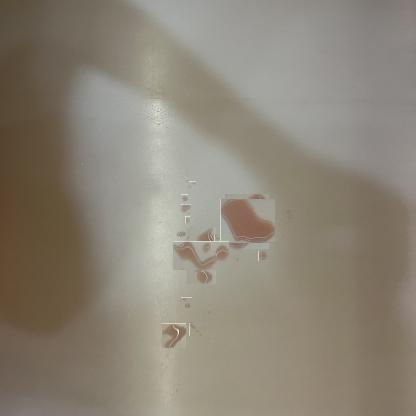liquid: (223, 197, 272, 246), (180, 235, 223, 277), (162, 323, 186, 348), (189, 322, 202, 336), (180, 297, 192, 308), (188, 181, 196, 194), (258, 252, 268, 261), (182, 204, 191, 214), (189, 258, 198, 266), (181, 194, 188, 202), (178, 232, 186, 236), (214, 236, 220, 241), (234, 256, 240, 261), (185, 217, 190, 222)
